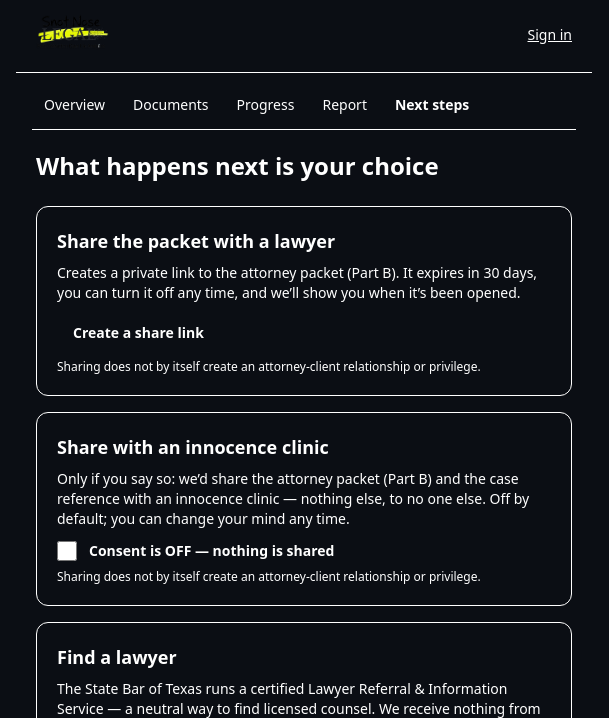
Test: consent card with a clinic inbox › without a live clinic there is no picker and consent posts the class alone
Expected: the text "Consent is OFF — nothing is shared" is shown, [89,541,334,561]
Click the checkbox.
click(67, 551)  # box [57,541,77,561]
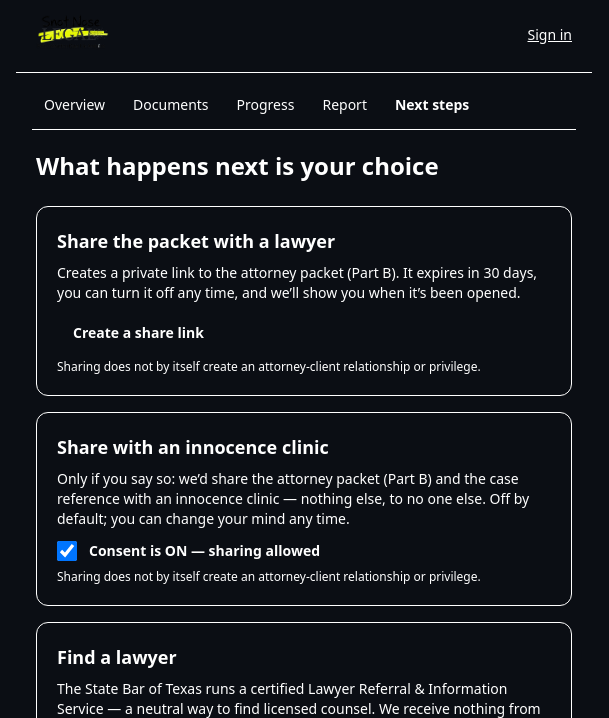
Expected: the text "Consent is ON — sharing allowed" is shown, [89,541,320,561]
